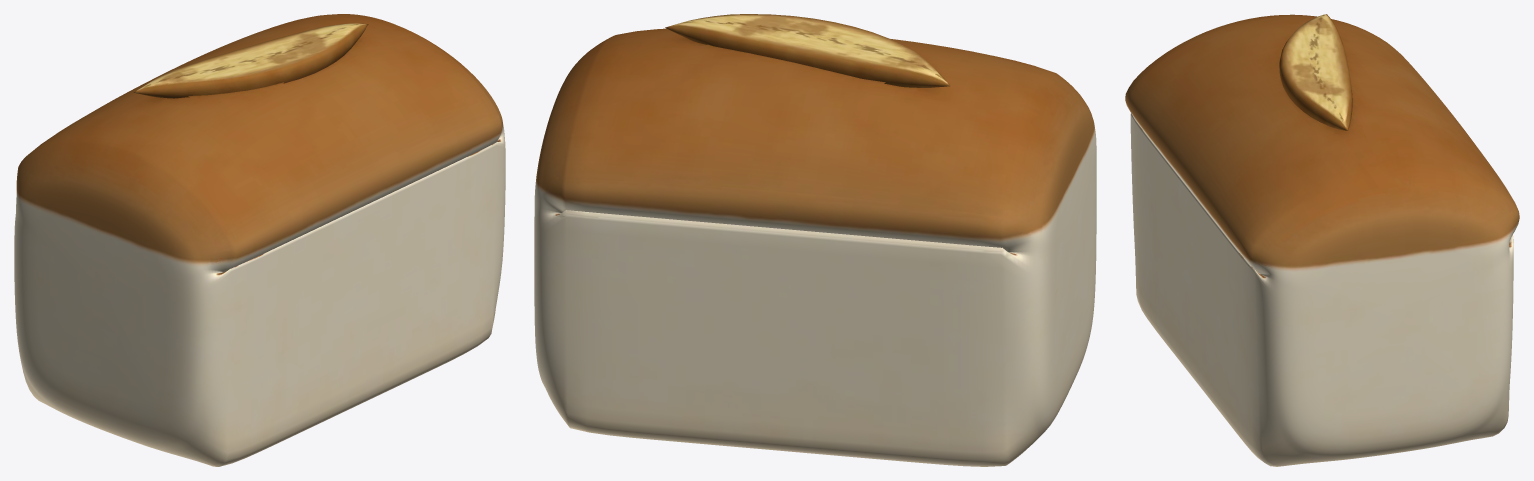
The model's file is loaf--banana-slice.glb.
The picture shows the model from 3 angles, left to right: view 1: azimuth 30°, elevation 25°; view 2: azimuth 150°, elevation 25°; view 3: azimuth 270°, elevation 25°; orthographic projection. The views are drawn at different scales.
Visible parts, largest first — view 1: loaf_banana-slice; view 2: loaf_banana-slice; view 3: loaf_banana-slice.
Boxes of the visible parts, box(x1,y1,x2,y2) form: loaf_banana-slice: box(14, 14, 505, 466); loaf_banana-slice: box(534, 14, 1096, 466); loaf_banana-slice: box(1125, 14, 1519, 466).
Bounding box in the file's own units: 1.09 × 0.7448 × 0.8491.
Materials: 1 (1 with a texture image).
